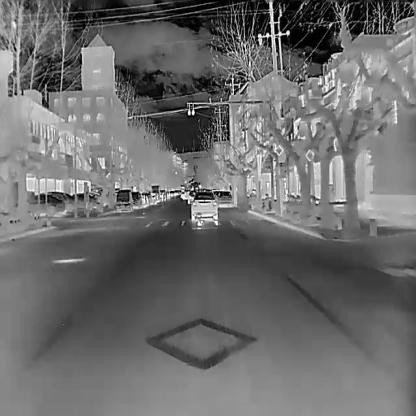car: (190, 189, 218, 221), (46, 190, 78, 214), (71, 192, 103, 216), (32, 193, 64, 216), (114, 188, 130, 212), (216, 190, 232, 206), (130, 189, 141, 209), (186, 189, 195, 203)
